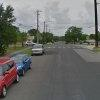Car: (11, 40, 46, 73)
